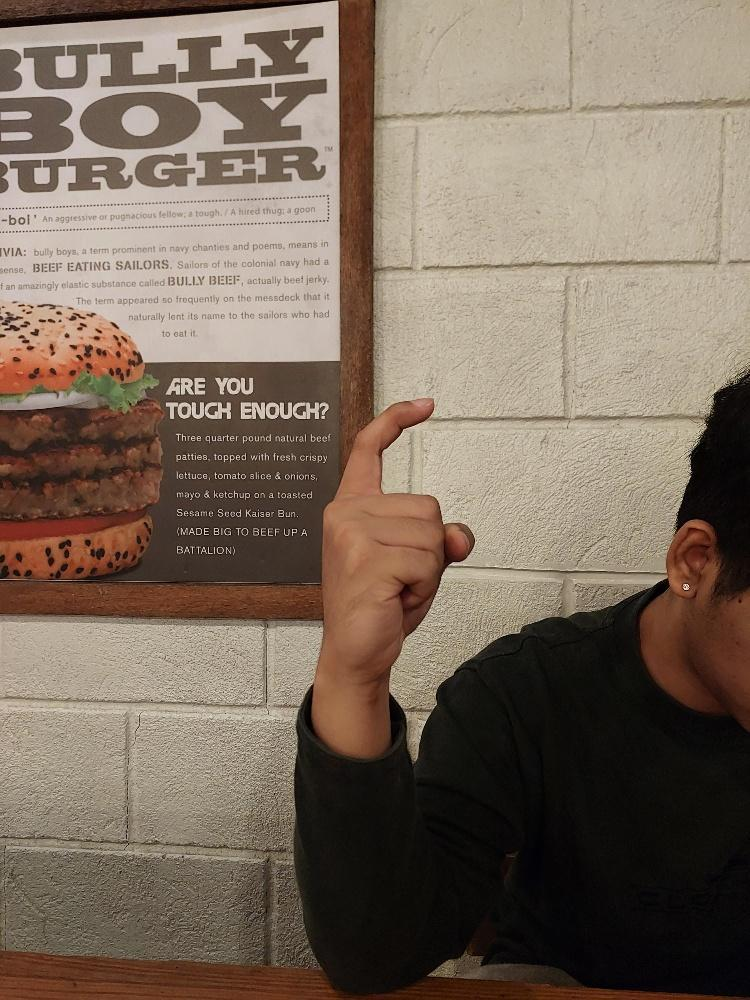x: (318, 394, 476, 683)
